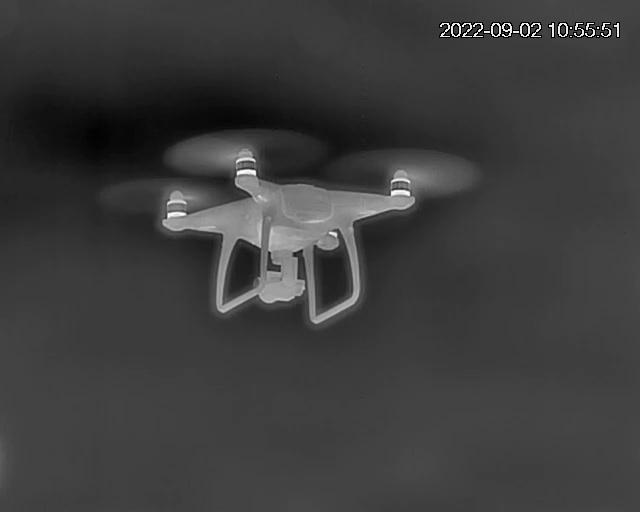DJI-Phantom: (129, 130, 479, 325)
